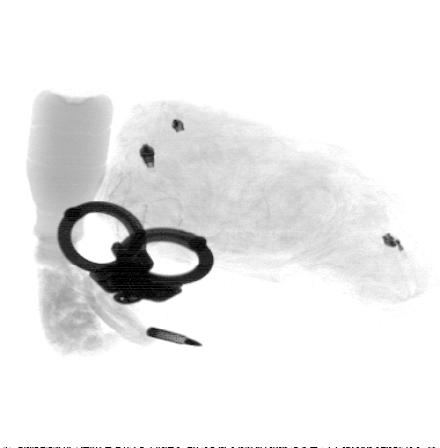Bullet: (148, 327, 204, 346)
HandCuffs: (56, 199, 215, 304)
